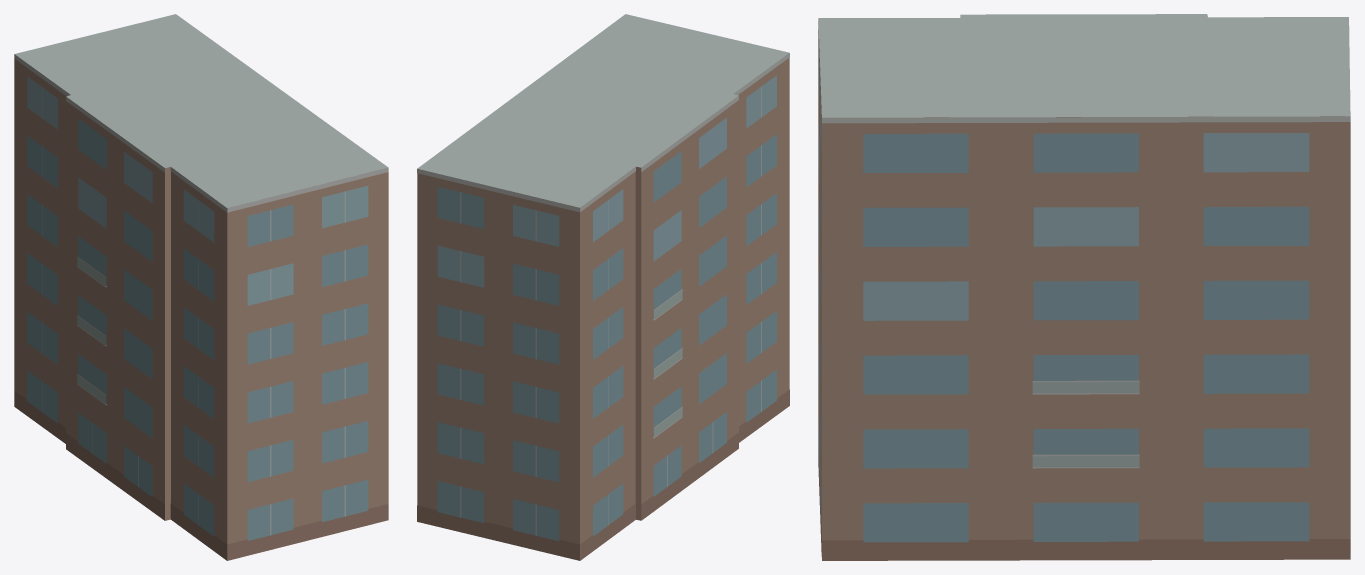
Rendered from survey-upis-32701348.glb.
3 views of the same model, side by side, from view 1: azimuth 30°, elevation 25°; view 2: azimuth 150°, elevation 25°; view 3: azimuth 270°, elevation 25° (orthographic). The views are drawn at different scales.
Visible parts, largest first — view 1: survey-upis-32701348.tmp; view 2: survey-upis-32701348.tmp; view 3: survey-upis-32701348.tmp.
Part boxes in pixels (left/top/right/bottom): survey-upis-32701348.tmp: left=14, top=14, right=388, bottom=560; survey-upis-32701348.tmp: left=417, top=14, right=789, bottom=560; survey-upis-32701348.tmp: left=818, top=14, right=1350, bottom=560.
Bounding box in the file's own units: 9.6 × 19.05 × 20.74.
